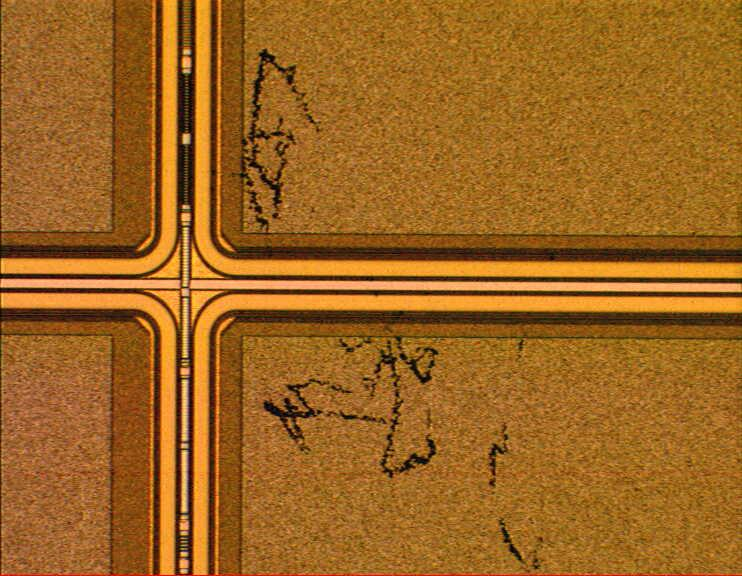SCRATCH: (230, 41, 556, 574)
